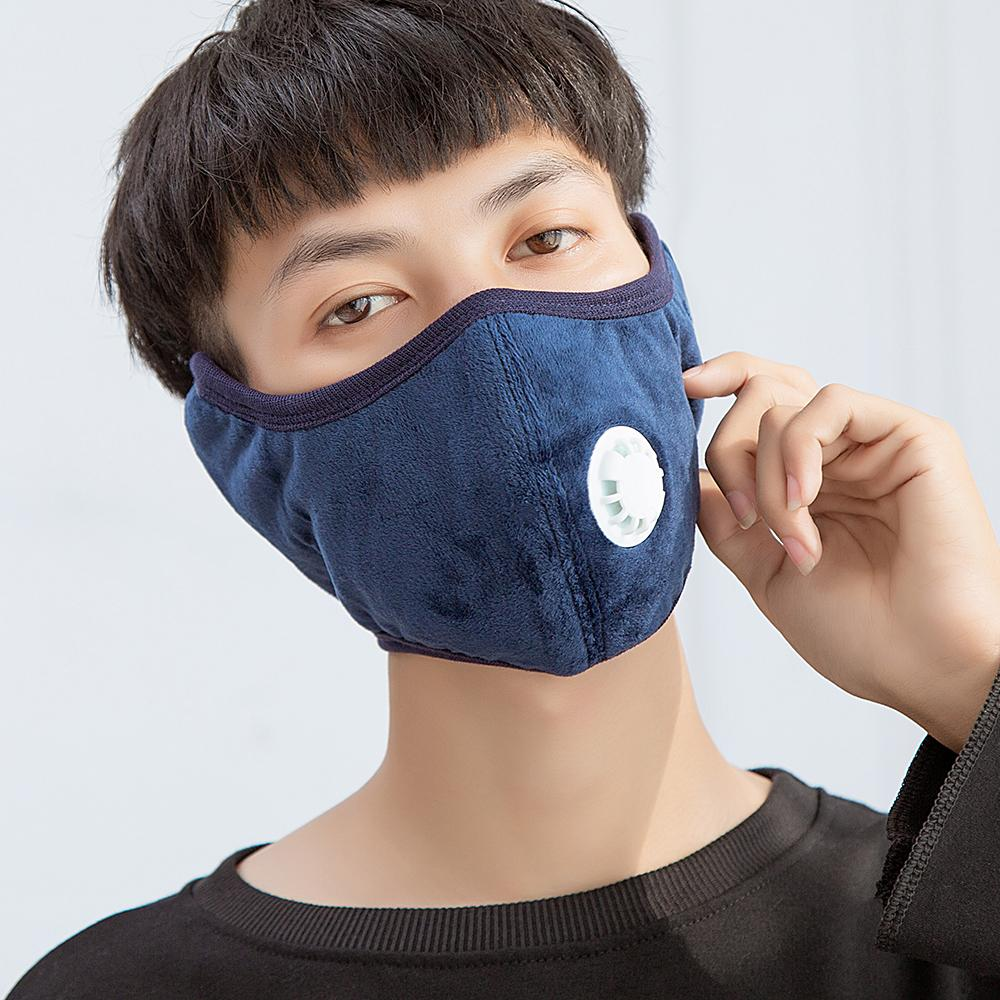Wearing Mask: (91, 17, 788, 724)
